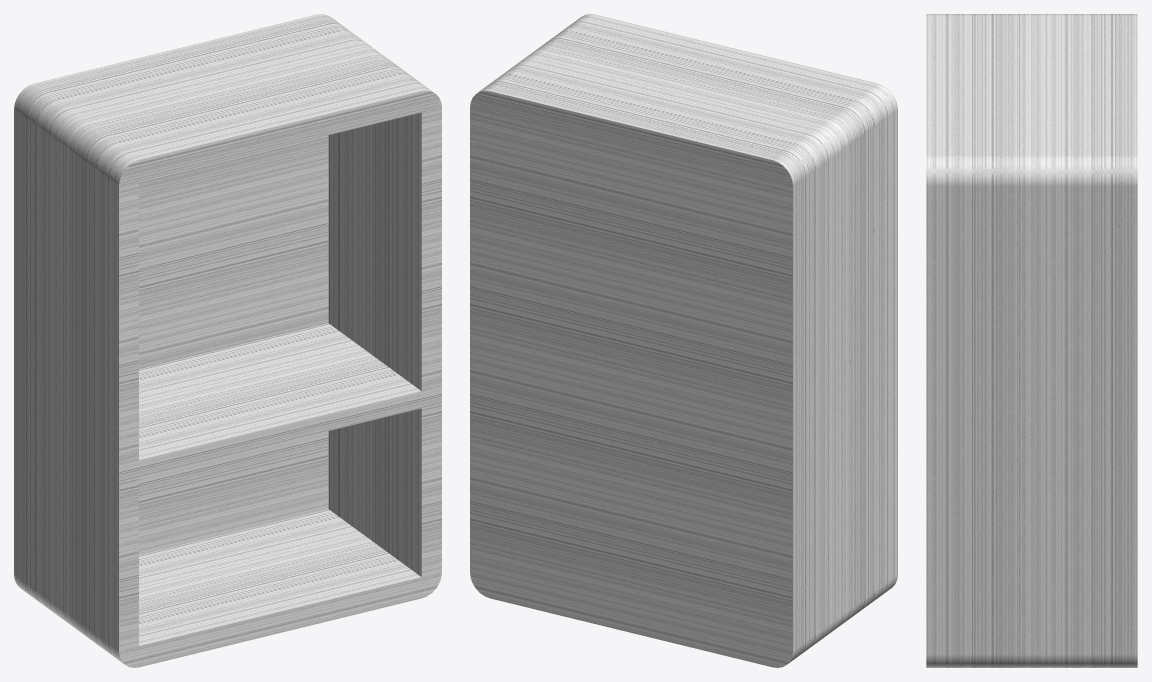
Rendered from fridge_back.obj.
The picture shows the model from 3 angles, left to right: view 1: azimuth 30°, elevation 25°; view 2: azimuth 150°, elevation 25°; view 3: azimuth 270°, elevation 25°; orthographic projection.
Visible parts, largest first — view 1: |fridge_back|Root|brushed_steel; view 2: |fridge_back|Root|brushed_steel; view 3: |fridge_back|Root|brushed_steel.
Boxes of the visible parts, <box> form: |fridge_back|Root|brushed_steel: <box>14,14,441,667</box>; |fridge_back|Root|brushed_steel: <box>470,14,897,667</box>; |fridge_back|Root|brushed_steel: <box>926,14,1137,667</box>.
Bounding box in the file's own units: 0.08 × 0.12 × 0.045.
1 material, 1 textured.
